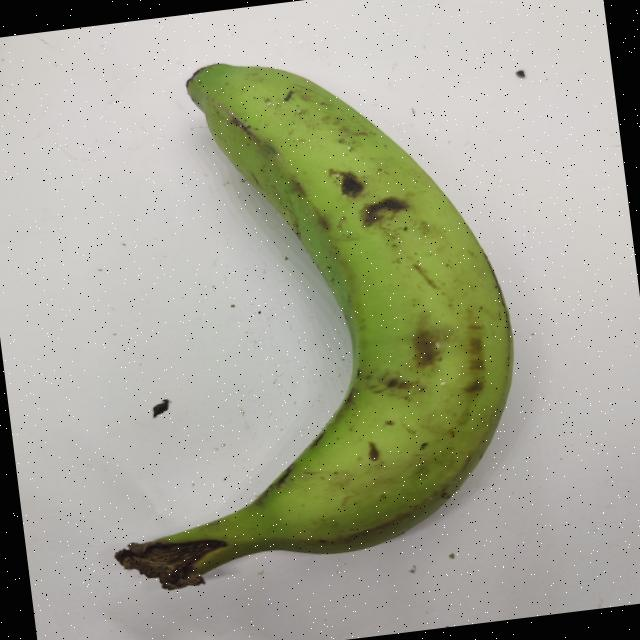Raw: (35, 18, 572, 616)
